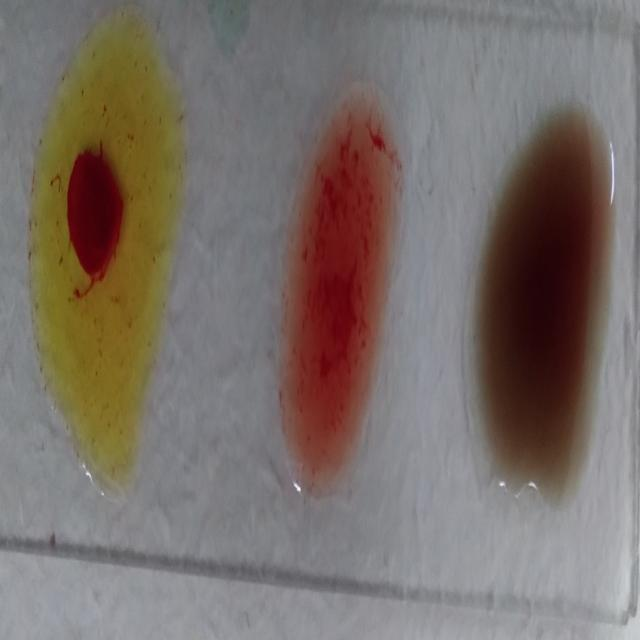B: (35, 26, 170, 491)
D: (280, 86, 395, 502)
